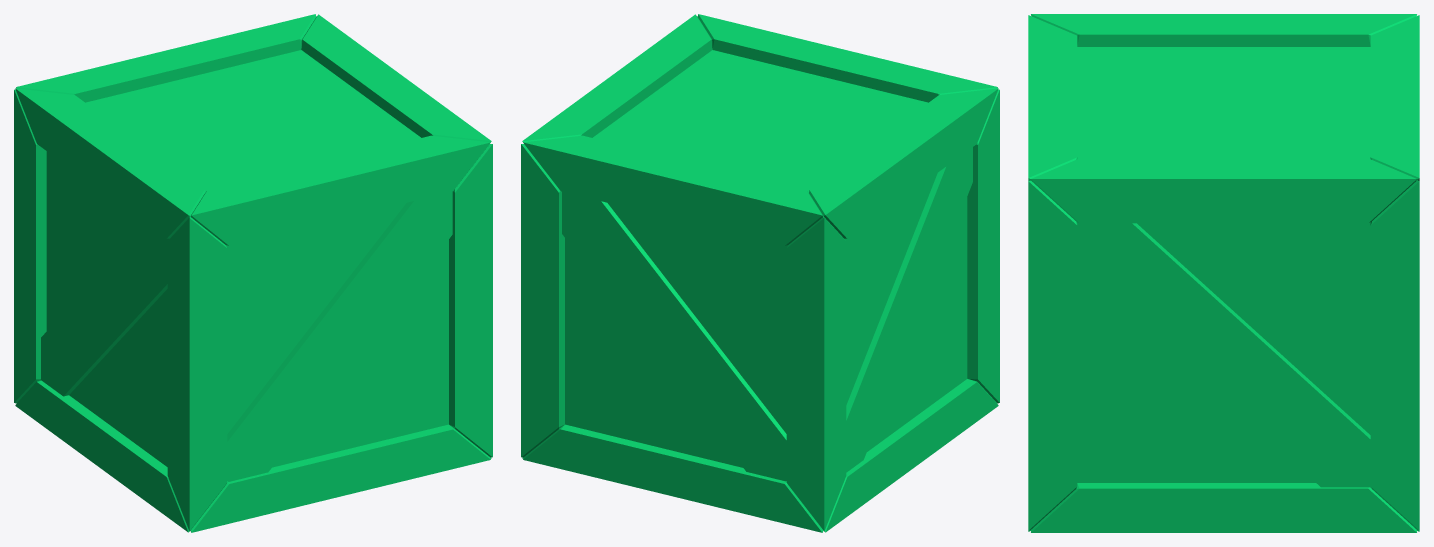
Rendered from green-box.glb.
3 views of the same model, side by side, from view 1: azimuth 30°, elevation 25°; view 2: azimuth 150°, elevation 25°; view 3: azimuth 270°, elevation 25° (orthographic). The views are drawn at different scales.
Parts seen in each view (by area): view 1: Box_3_BoxWood1_0; view 2: Box_3_BoxWood1_0; view 3: Box_3_BoxWood1_0.
Boxes of the visible parts, x1,y1,x2,y2 form: Box_3_BoxWood1_0: [14, 14, 492, 532]; Box_3_BoxWood1_0: [521, 14, 999, 532]; Box_3_BoxWood1_0: [1028, 14, 1419, 532].
Size of the model in its own units: 0.9013 by 0.9013 by 0.9028.
